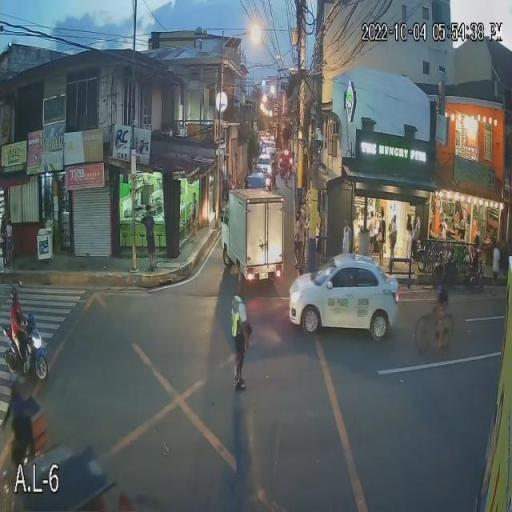helmet: (10, 284, 20, 294)
motorcycle: (0, 310, 50, 380)
rider: (9, 285, 32, 359), (430, 274, 450, 338)
